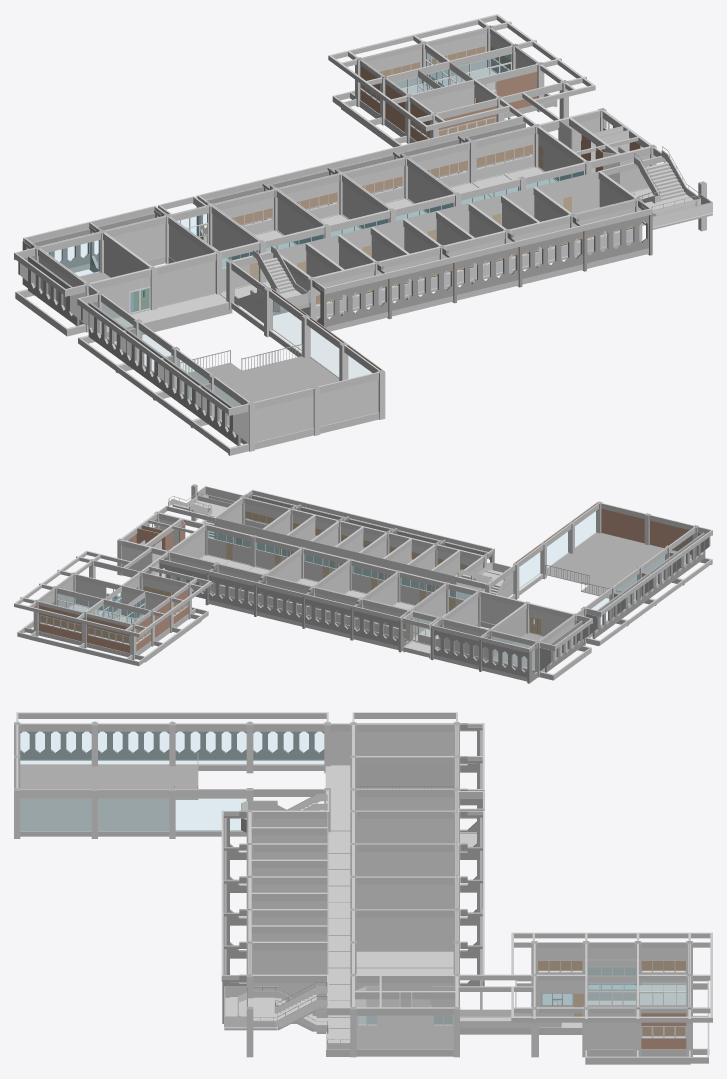
The picture shows the model from 3 angles, top to bottom: view 1: azimuth 30°, elevation 25°; view 2: azimuth 150°, elevation 25°; view 3: azimuth 270°, elevation 25°; orthographic projection. The views are drawn at different scales.
Visible parts, largest first — view 1: EN1200299, EN1200203, EN1200201, EN1200208, EN1200218, EN1200205, EN1200206, EN1200207, EN1200202, EN1200213, EN1200211, EN1200215 (+7 smaller); view 2: EN1200299, EN1200201, EN1200203, EN1200208, EN1200205, EN1200206, EN1200207, EN1200202, EN1200204, EN1200218, EN1200209, EN1200213 (+7 smaller); view 3: EN1200299, EN1200201, EN1200203, EN1200209, EN1200207, EN1200208, EN1200206, EN1200202, EN1200205, EN1200204, EN1200216, EN1200218 (+7 smaller).
Boxes of the visible parts, left/top/right/bottom form: EN1200299: left=65, top=58, right=712, bottom=455; EN1200203: left=14, top=205, right=219, bottom=336; EN1200201: left=328, top=14, right=557, bottom=146; EN1200208: left=393, top=116, right=591, bottom=212; EN1200218: left=533, top=171, right=652, bottom=271; EN1200205: left=196, top=179, right=330, bottom=280; EN1200206: left=262, top=163, right=395, bottom=244; EN1200207: left=327, top=147, right=460, bottom=228; EN1200202: left=389, top=79, right=509, bottom=147; EN1200213: left=371, top=219, right=456, bottom=308; EN1200211: left=306, top=235, right=392, bottom=324; EN1200215: left=436, top=203, right=522, bottom=292; EN1200299: left=57, top=484, right=712, bottom=646; EN1200201: left=14, top=570, right=185, bottom=666; EN1200203: left=430, top=590, right=592, bottom=683; EN1200208: left=159, top=523, right=303, bottom=614; EN1200205: left=350, top=570, right=449, bottom=649; EN1200206: left=302, top=558, right=400, bottom=640; EN1200207: left=254, top=546, right=351, bottom=628; EN1200202: left=122, top=566, right=211, bottom=634; EN1200204: left=398, top=582, right=481, bottom=659; EN1200218: left=213, top=489, right=301, bottom=543; EN1200209: left=120, top=512, right=188, bottom=575; EN1200213: left=359, top=525, right=420, bottom=579; EN1200299: left=14, top=712, right=589, bottom=1057; EN1200201: left=582, top=932, right=712, bottom=1064; EN1200203: left=350, top=712, right=484, bottom=831; EN1200209: left=350, top=986, right=459, bottom=1057; EN1200207: left=350, top=875, right=484, bottom=958; EN1200208: left=350, top=908, right=484, bottom=1017; EN1200206: left=350, top=842, right=484, bottom=918; EN1200202: left=511, top=932, right=589, bottom=1016; EN1200205: left=350, top=810, right=484, bottom=884; EN1200204: left=350, top=788, right=484, bottom=852; EN1200216: left=221, top=909, right=328, bottom=965; EN1200218: left=221, top=941, right=328, bottom=1023.
Size of what is drawn, in the model's own units: 56.14 by 5.38 by 54.05.
